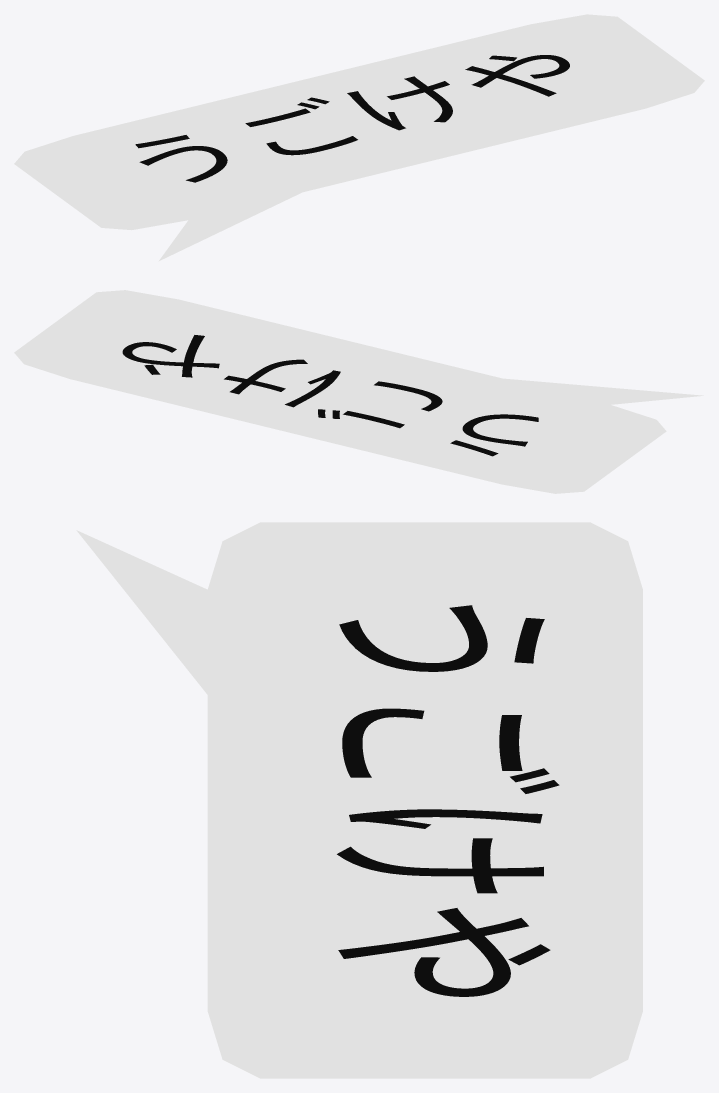
File: Message1.obj
3 views of the same model, one above another, from view 1: azimuth 30°, elevation 25°; view 2: azimuth 150°, elevation 25°; view 3: azimuth 270°, elevation 25° (orthographic). The views are drawn at different scales.
Parts seen in each view (by area): view 1: 平面, テキスト; view 2: 平面, テキスト; view 3: 平面, テキスト.
Part boxes in pixels (bbox=[...]): 平面: bbox=[14, 14, 704, 261]; テキスト: bbox=[135, 55, 569, 182]; 平面: bbox=[14, 290, 703, 493]; テキスト: bbox=[122, 335, 538, 456]; 平面: bbox=[76, 522, 642, 1078]; テキスト: bbox=[337, 605, 559, 996].
Size of the model in its own units: 5.32 by 0.0159 by 2.29.
